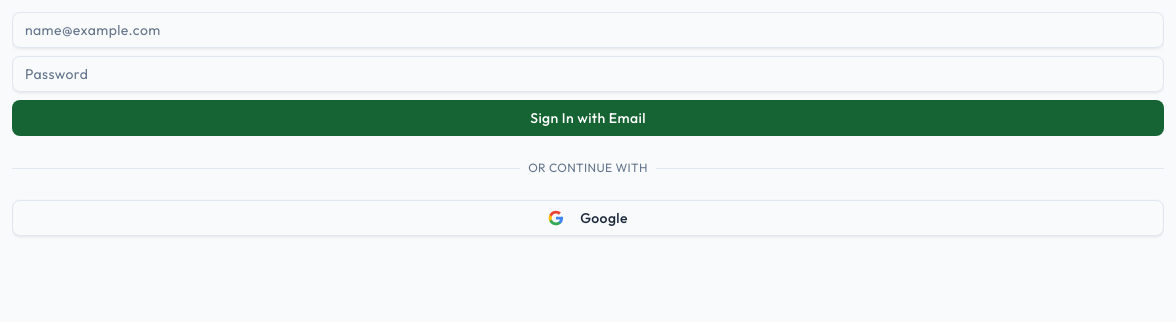
Test: UserAuthForm › Login Form › should show error for empty email
Type "password123" into the password field with placeholder "Password" at (588, 74), box [12,56,1164,92]
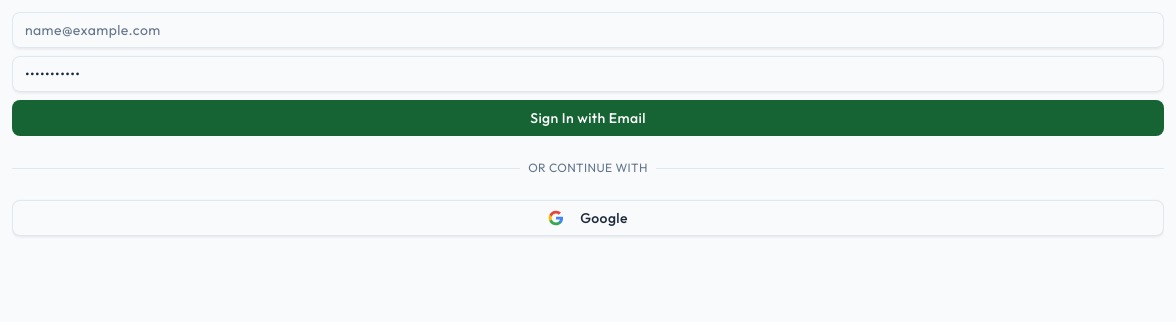
Click the button "Sign In with Email" at (588, 118), box [12,100,1164,136]
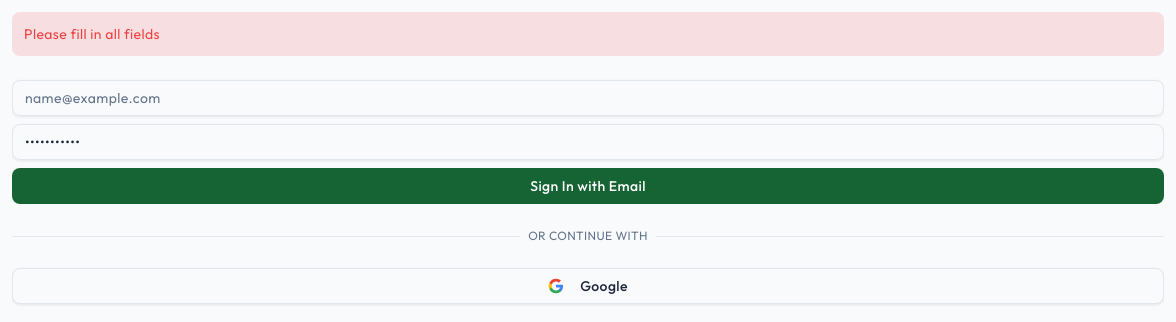
Result: the text "Please fill in all fields" is shown at [24,25,160,43]
